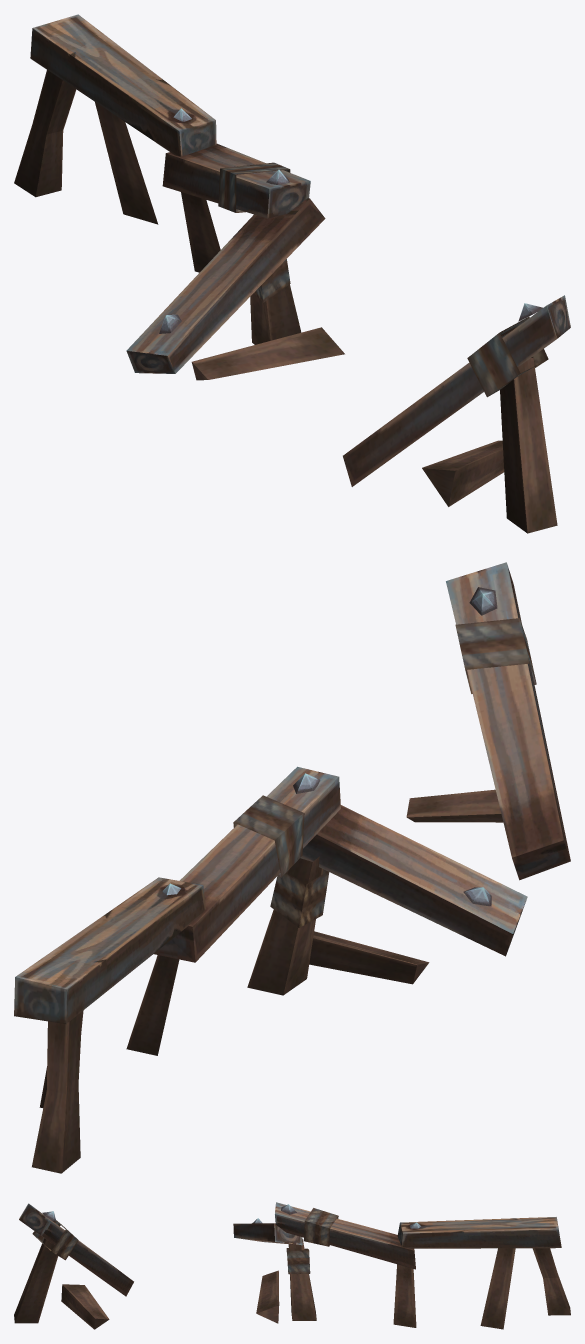
File: mine_railing05.fbx
The picture shows the model from 3 angles, top to bottom: view 1: azimuth 30°, elevation 25°; view 2: azimuth 150°, elevation 25°; view 3: azimuth 270°, elevation 25°; orthographic projection. The views are drawn at different scales.
Visible parts, largest first — view 1: obj0.137; view 2: obj0.137; view 3: obj0.137.
Boxes of the visible parts, left/top/right/bottom form: obj0.137: left=14, top=14, right=570, bottom=533; obj0.137: left=14, top=562, right=570, bottom=1173; obj0.137: left=14, top=1202, right=570, bottom=1329.
Size of the model in its own units: 2.44 by 1.97 by 8.24.
